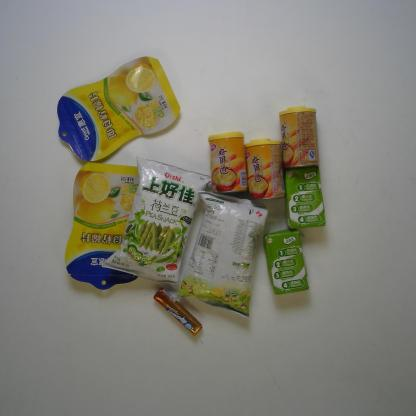Candy: (152, 286, 205, 338)
Canned Food: (205, 128, 251, 198), (278, 104, 322, 172), (243, 137, 287, 202)
Dried Fruit: (53, 54, 182, 162), (61, 159, 154, 289)
Milk: (262, 226, 309, 300), (280, 166, 330, 234)
Puffed Food: (98, 154, 214, 288), (170, 191, 273, 318)
